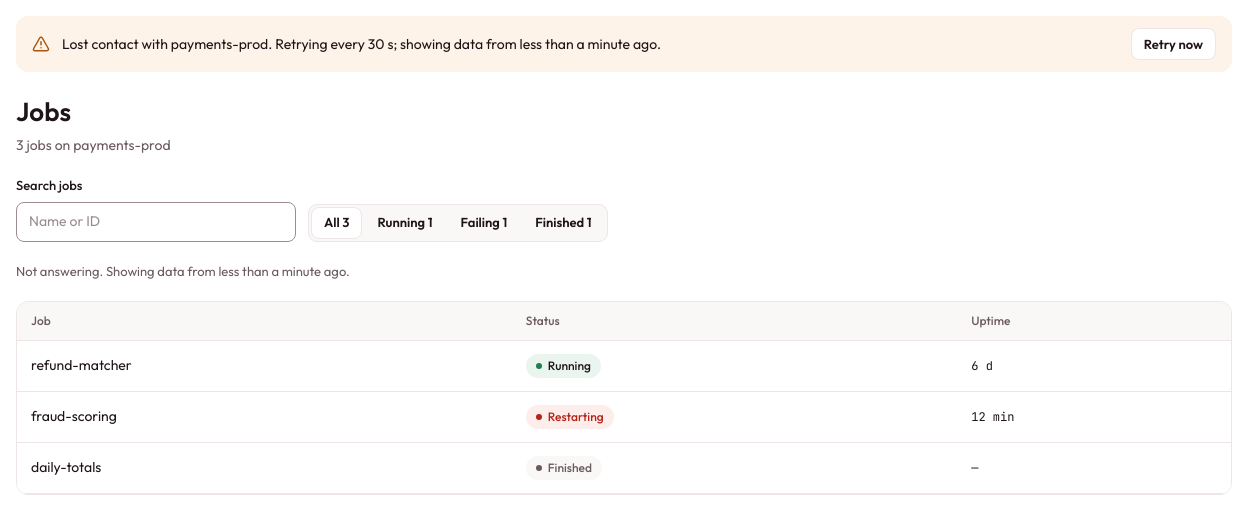
Scenario: audit of b5b249a: polling errors (ERRORS_AND_ALERTS §4) › #3 a Retry that fails again keeps the banner
expect the table named "Jobs" is shown: met, box x1=17 y1=302 x2=1231 y2=494
expect the text "Lost contact with payments-prod" is shown: met, box x1=62 y1=35 x2=661 y2=53
What coordinates should you click on to do the following:
click the button "Retry now"
I would click on:
 (1173, 44)
Its box is x1=1131 y1=28 x2=1216 y2=60.
Wait 100 ms
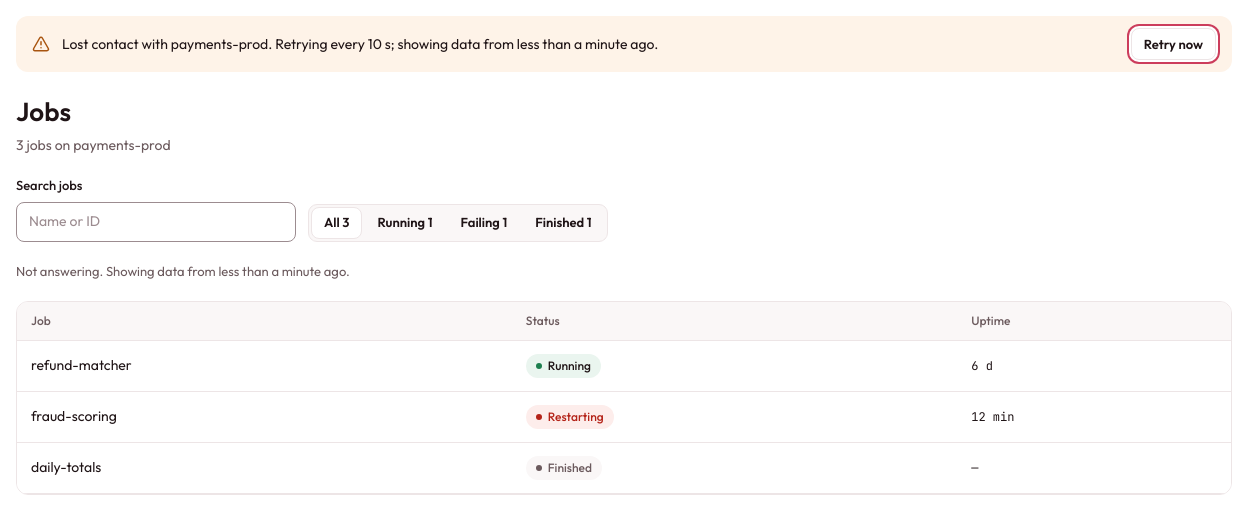
expect the text "Retrying every 10 s" is shown: met, box x1=62 y1=35 x2=658 y2=53
